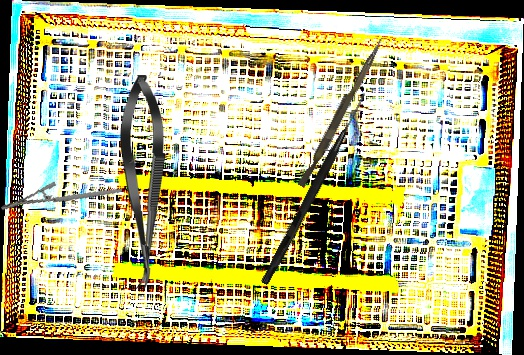Hook Surgical: (260, 90, 369, 287)
Micro Scissor: (119, 74, 167, 290)
Needle Holder: (0, 166, 123, 233)
Pusher: (297, 34, 385, 190)
